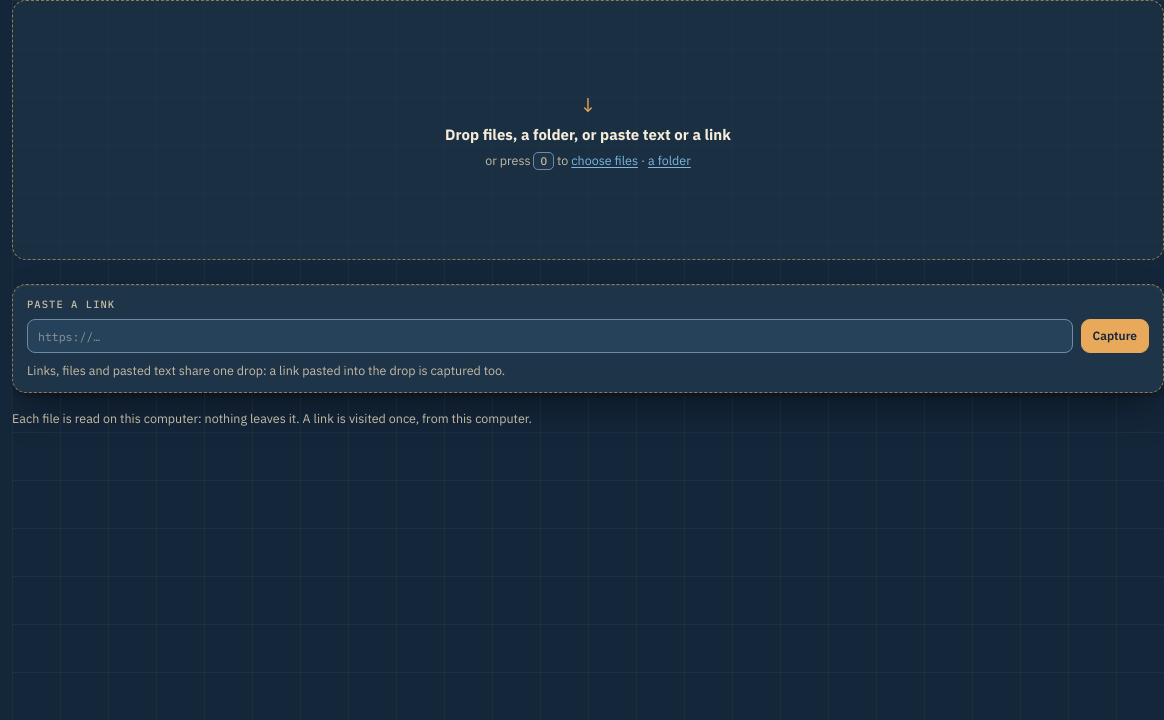
Test: Links & captures › refuses what is not a web address before asking the server, and shows the server's refusal
Type "example.org" into the field named "Web address to capture".
click(550, 336); type("example.org")  # box [27, 319, 1073, 353]
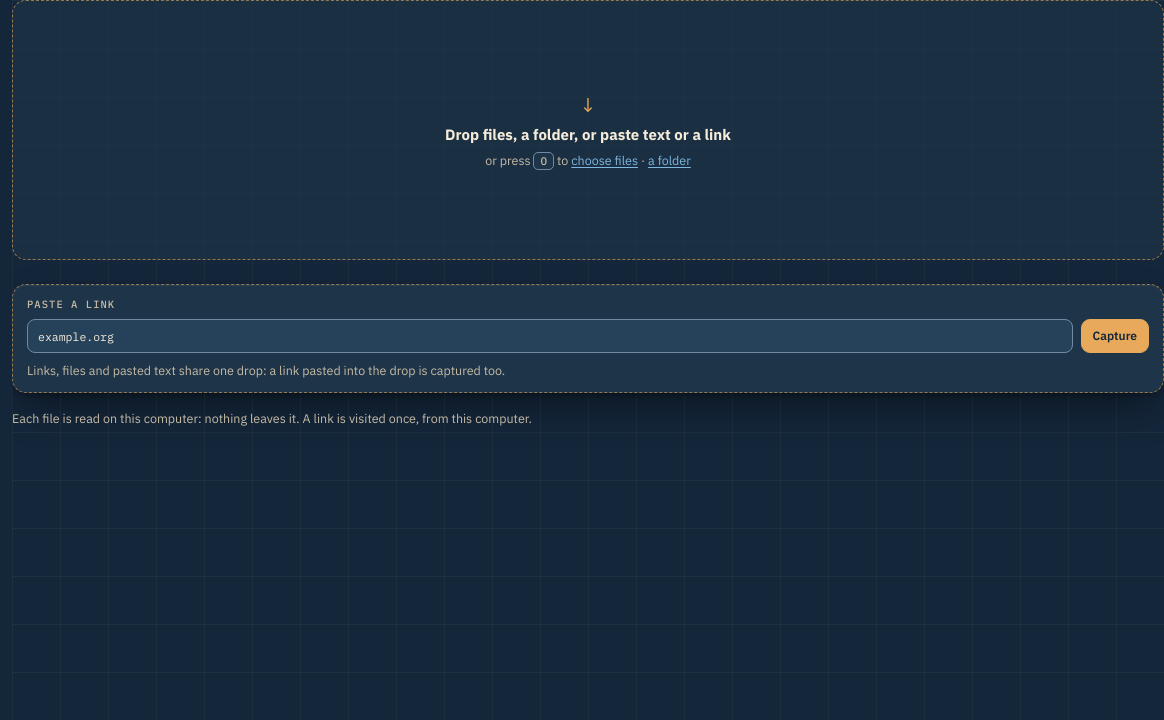
Submit the form named "Web address to capture", box [27, 319, 1149, 353]
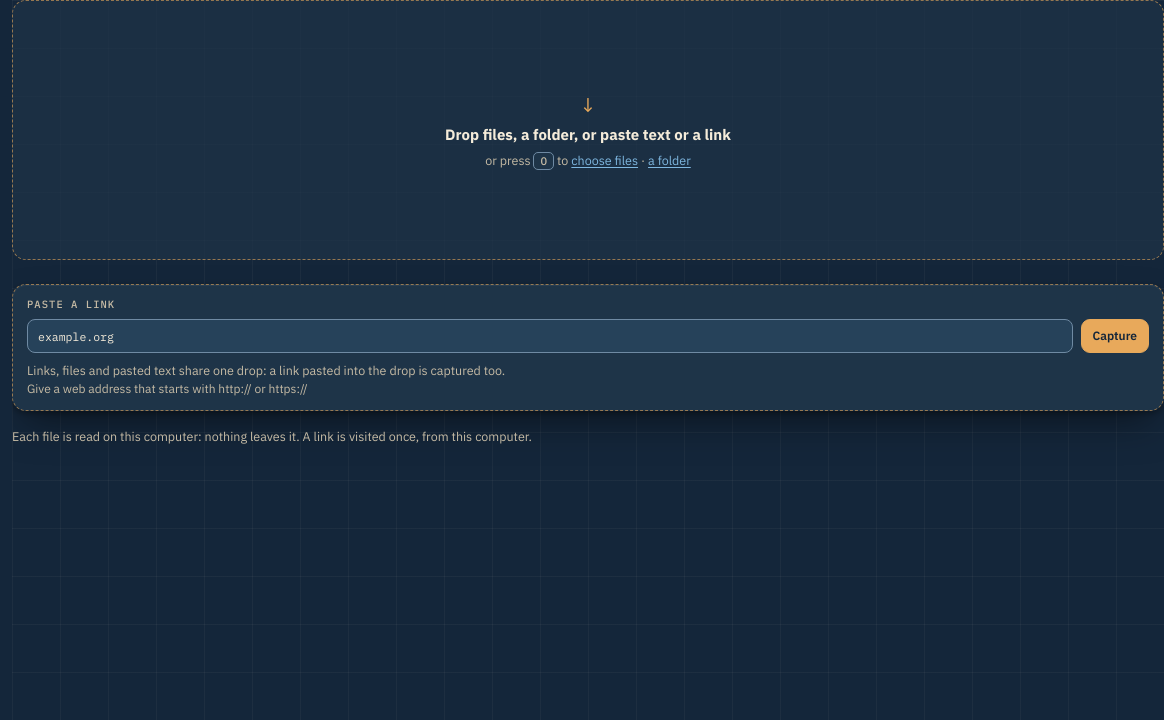
Expected: the text "Give a web address that starts with http:// or https://" is shown, [27, 381, 308, 396]
Replace the text in the field named "Web address to capture" with "http://10.0.0.1/admin" at x=550, y=336, box [27, 319, 1073, 353]
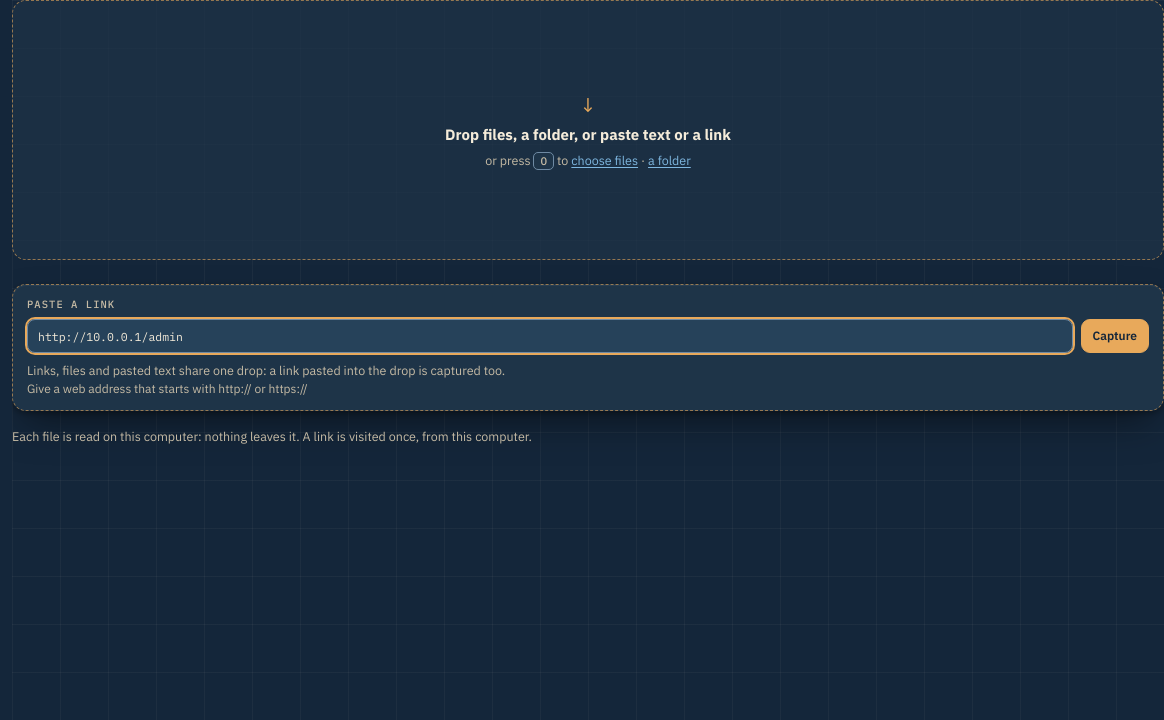
Click the button "Capture".
click(1115, 336)  # box [1081, 319, 1149, 353]
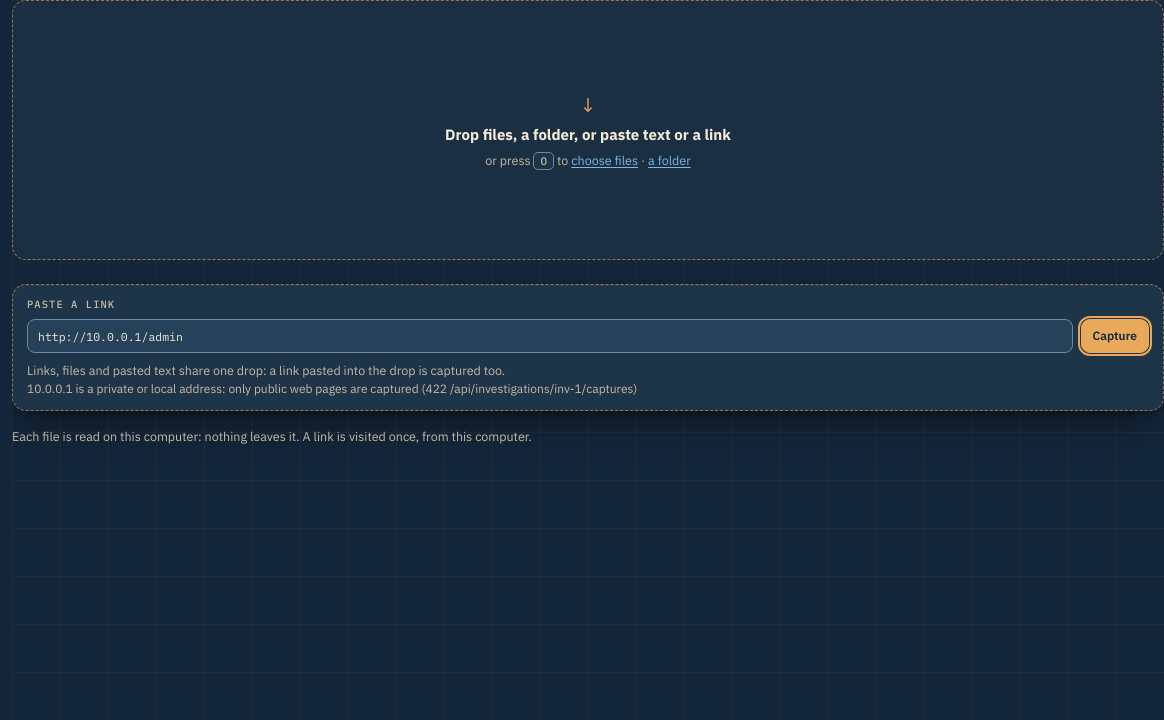
Expected: the text "private or local address" is shown, [27, 381, 637, 396]
